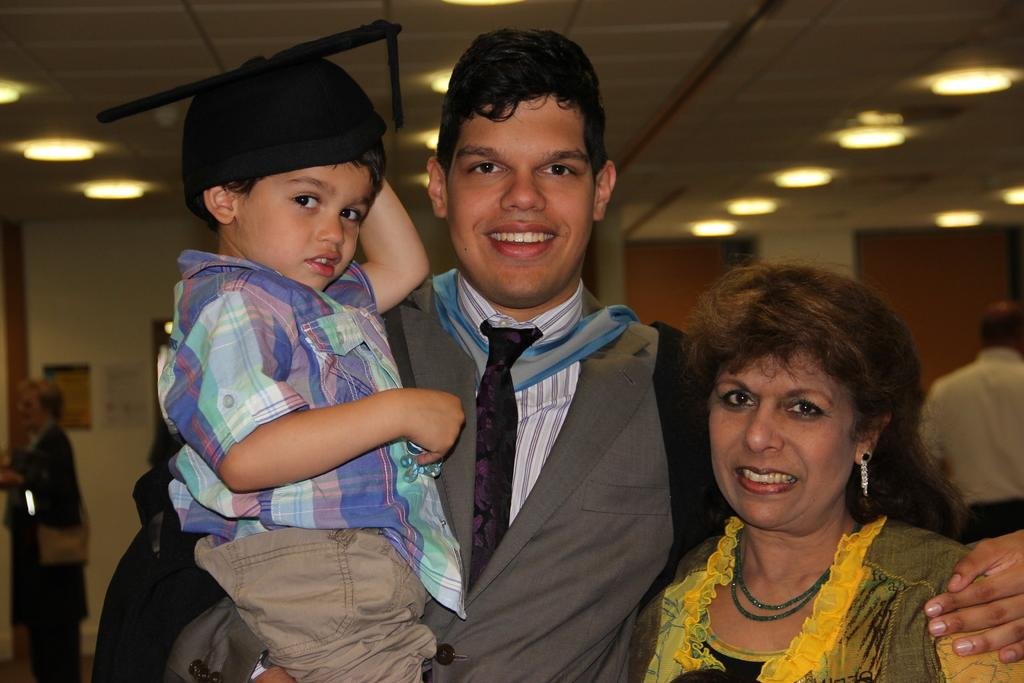Hat: (182, 54, 391, 219)
